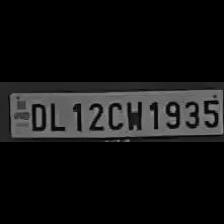1: (143, 97, 161, 130), (66, 99, 84, 131)
2: (84, 99, 104, 131)
3: (182, 97, 200, 128)
5: (200, 96, 220, 128)
9: (162, 97, 180, 129)
C: (104, 98, 124, 130)
D: (26, 99, 46, 131)
L: (46, 98, 66, 132)
W: (124, 98, 142, 132)
